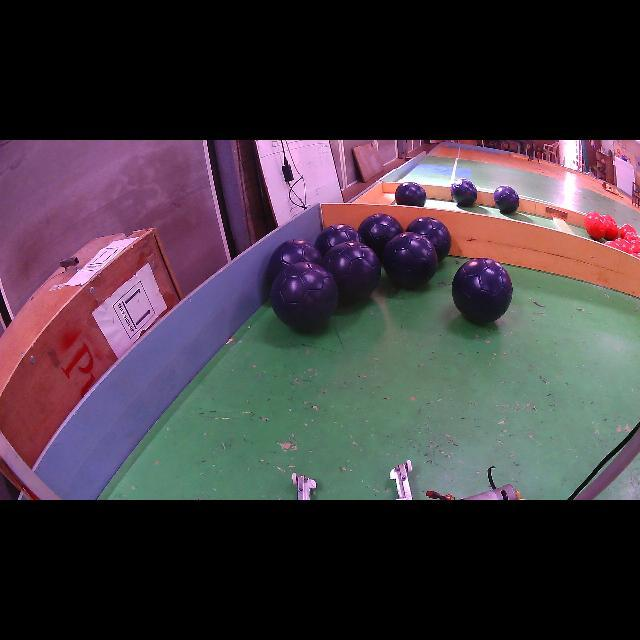B: (270, 261, 338, 331), (451, 258, 512, 322), (322, 241, 381, 301), (382, 232, 438, 289), (268, 239, 321, 281), (358, 214, 402, 261), (406, 218, 451, 261), (315, 224, 362, 256), (395, 181, 426, 206), (450, 179, 478, 206), (494, 185, 520, 214)
R: (585, 211, 606, 239), (601, 215, 619, 240), (615, 239, 631, 254), (620, 224, 636, 237), (604, 241, 622, 250), (624, 231, 640, 241), (629, 240, 640, 254)
